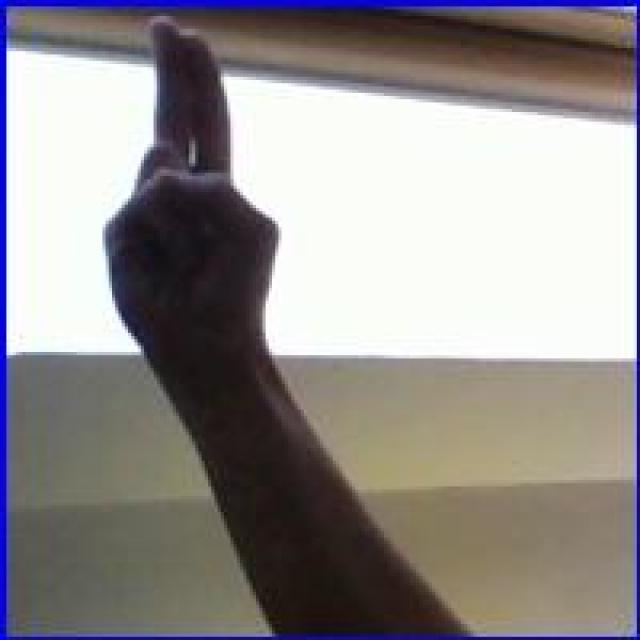U: (109, 15, 285, 382)
